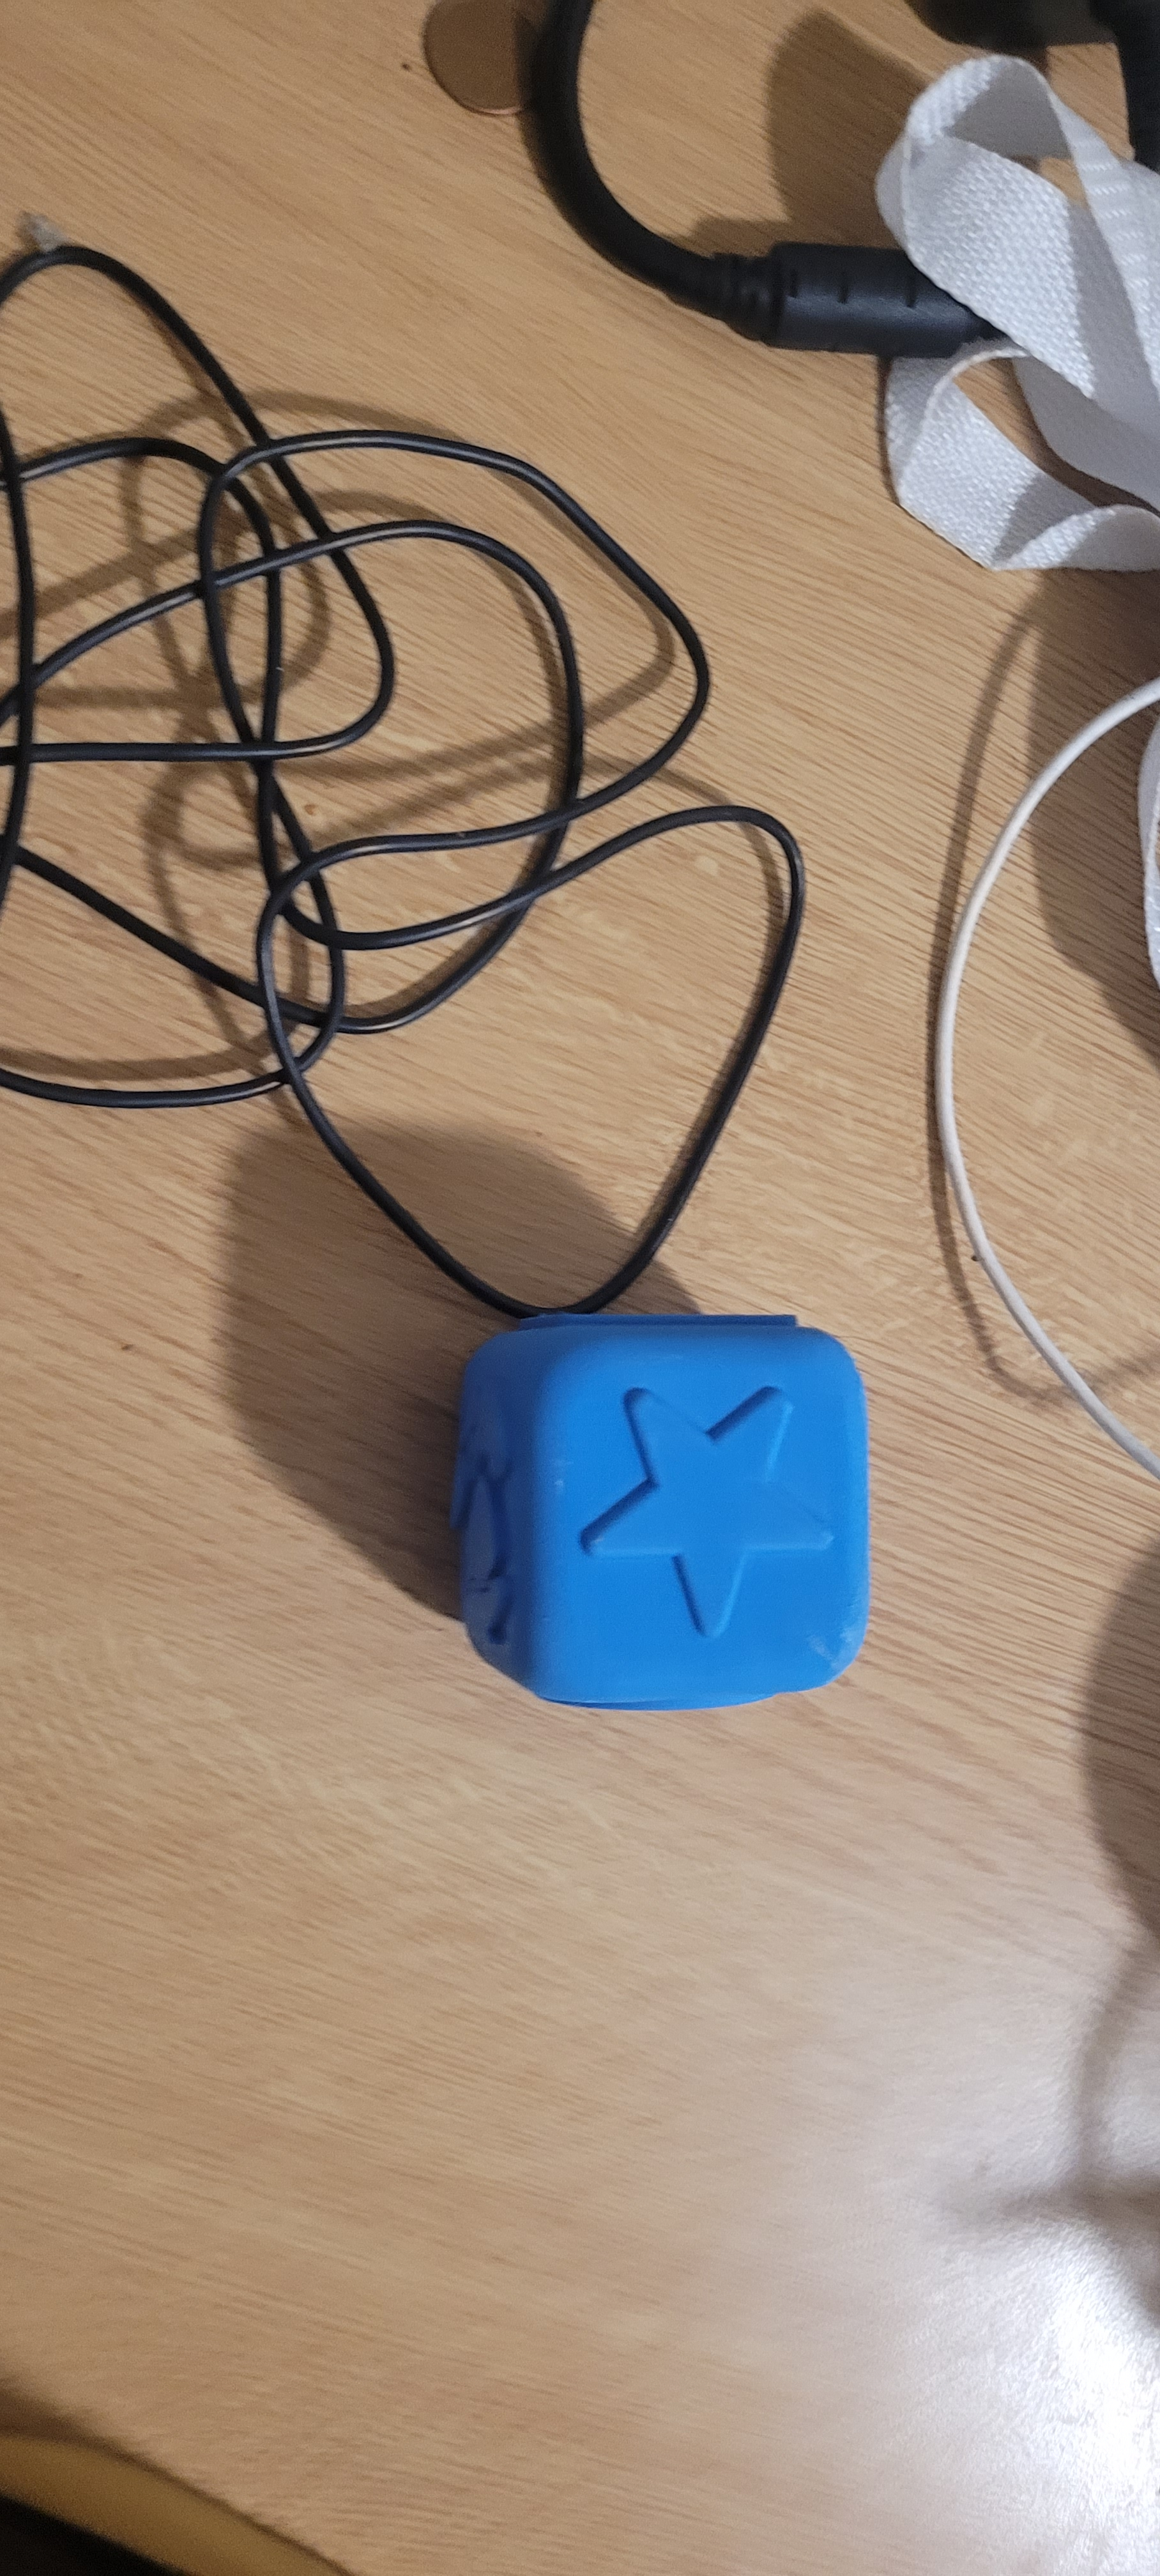Star: (565, 1360, 841, 1649)
